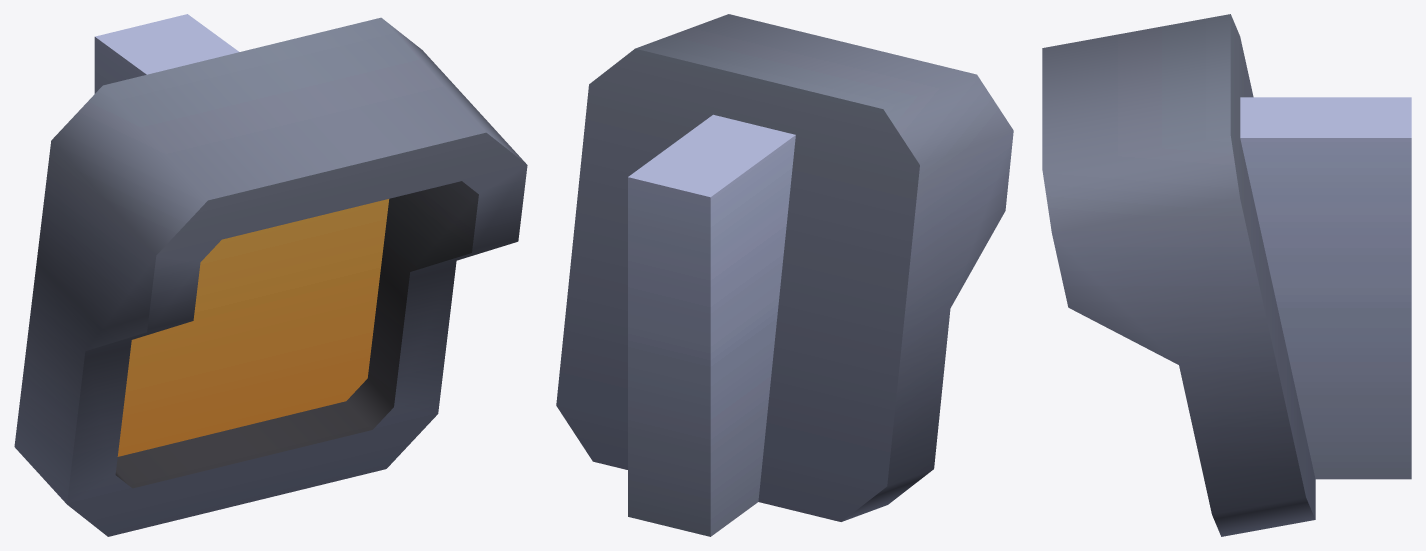
The model's file is station.display_wall.glb.
3 views of the same model, side by side, from view 1: azimuth 30°, elevation 25°; view 2: azimuth 150°, elevation 25°; view 3: azimuth 270°, elevation 25° (orthographic). The views are drawn at different scales.
Parts seen in each view (by area): view 1: display-wall; view 2: display-wall; view 3: display-wall.
Boxes of the visible parts, left/top/right/bottom form: display-wall: left=14, top=14, right=527, bottom=536; display-wall: left=556, top=14, right=1013, bottom=536; display-wall: left=1042, top=14, right=1411, bottom=536.
Size of the model in its own units: 0.6909 by 0.7961 by 0.6639.
1 material, 1 textured.
